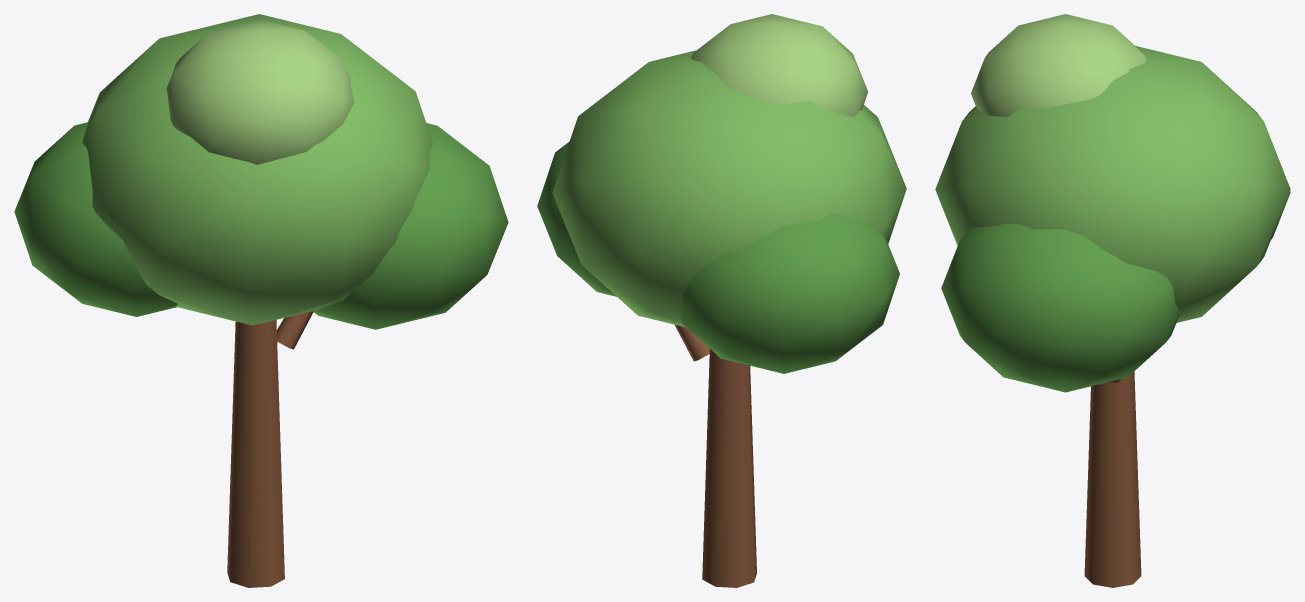
The model's file is tree-01.glb.
The picture shows the model from 3 angles, left to right: view 1: azimuth 30°, elevation 25°; view 2: azimuth 150°, elevation 25°; view 3: azimuth 270°, elevation 25°; orthographic projection. The views are drawn at different scales.
Visible parts, largest first — view 1: Canopy, Trunk; view 2: Canopy, Trunk; view 3: Canopy, Trunk.
Part boxes in pixels (x1,y1,x2,y2): Canopy: (14, 14, 508, 329); Trunk: (227, 311, 313, 587); Canopy: (537, 14, 906, 373); Trunk: (675, 325, 756, 587); Canopy: (935, 14, 1290, 392); Trunk: (1084, 371, 1141, 587).
Size of the model in its own units: 3.75 by 5.04 by 3.
